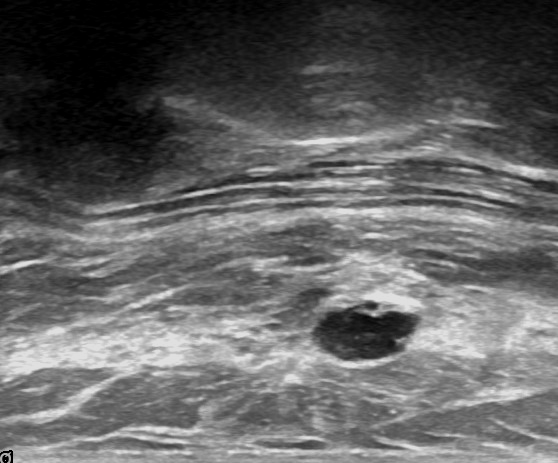Benign: (316, 293, 416, 366)
